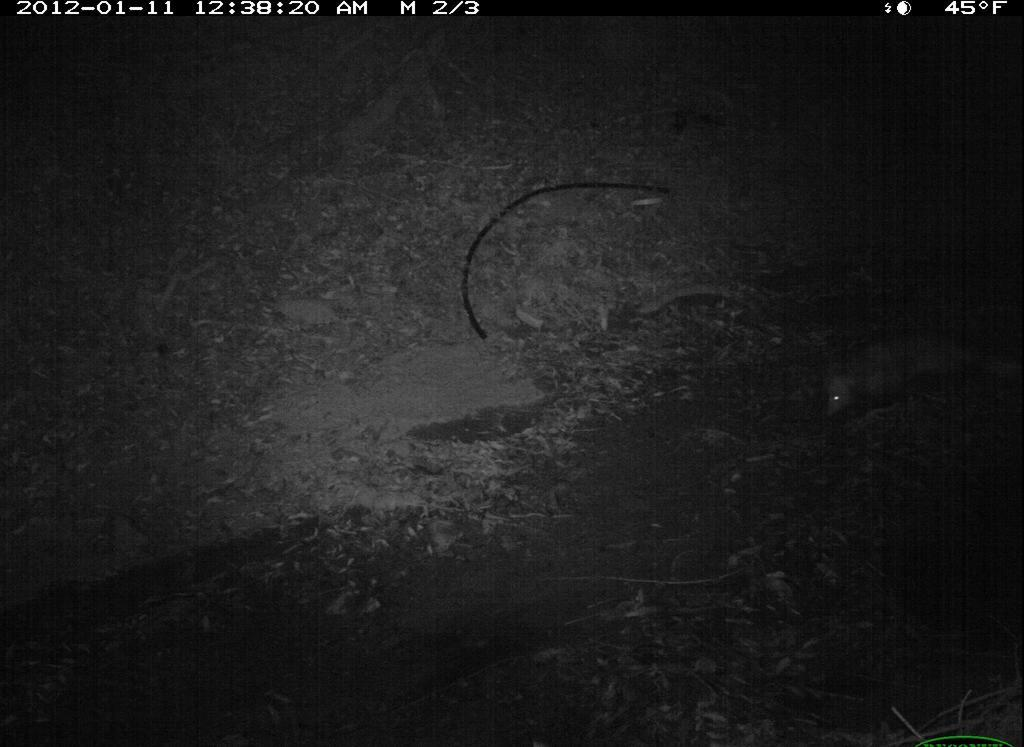opossum: (811, 329, 1001, 436)
